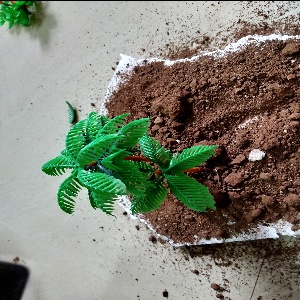plant: (38, 116, 220, 222)
